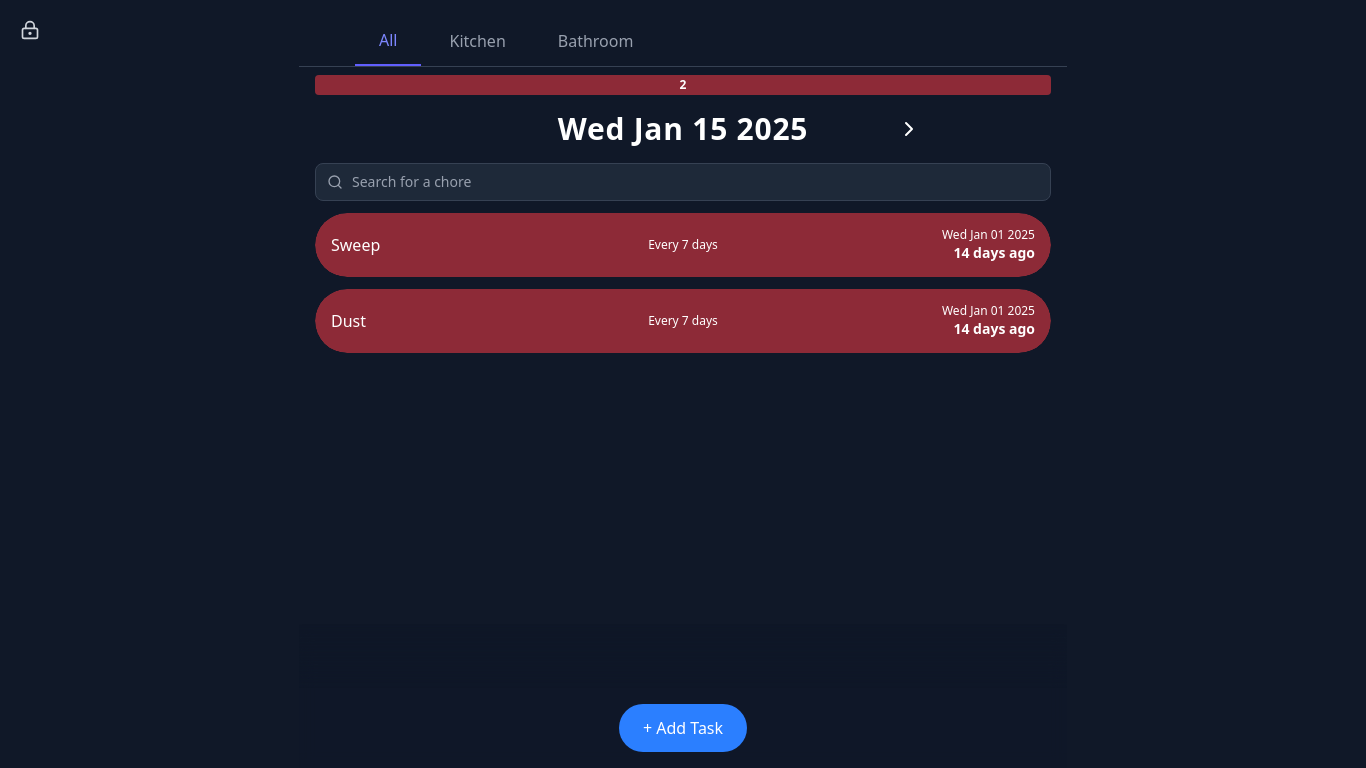
Test: touch lock wiring › a room tab, the search input and the next-day button work while an attempt overlay shows, and the overlay stays up
Check: the text "Sweep" is shown, box x1=331 y1=234 x2=380 y2=256
Click the element with test id "chore-bar" at (683, 245), box x1=315 y1=213 x2=1051 y2=277
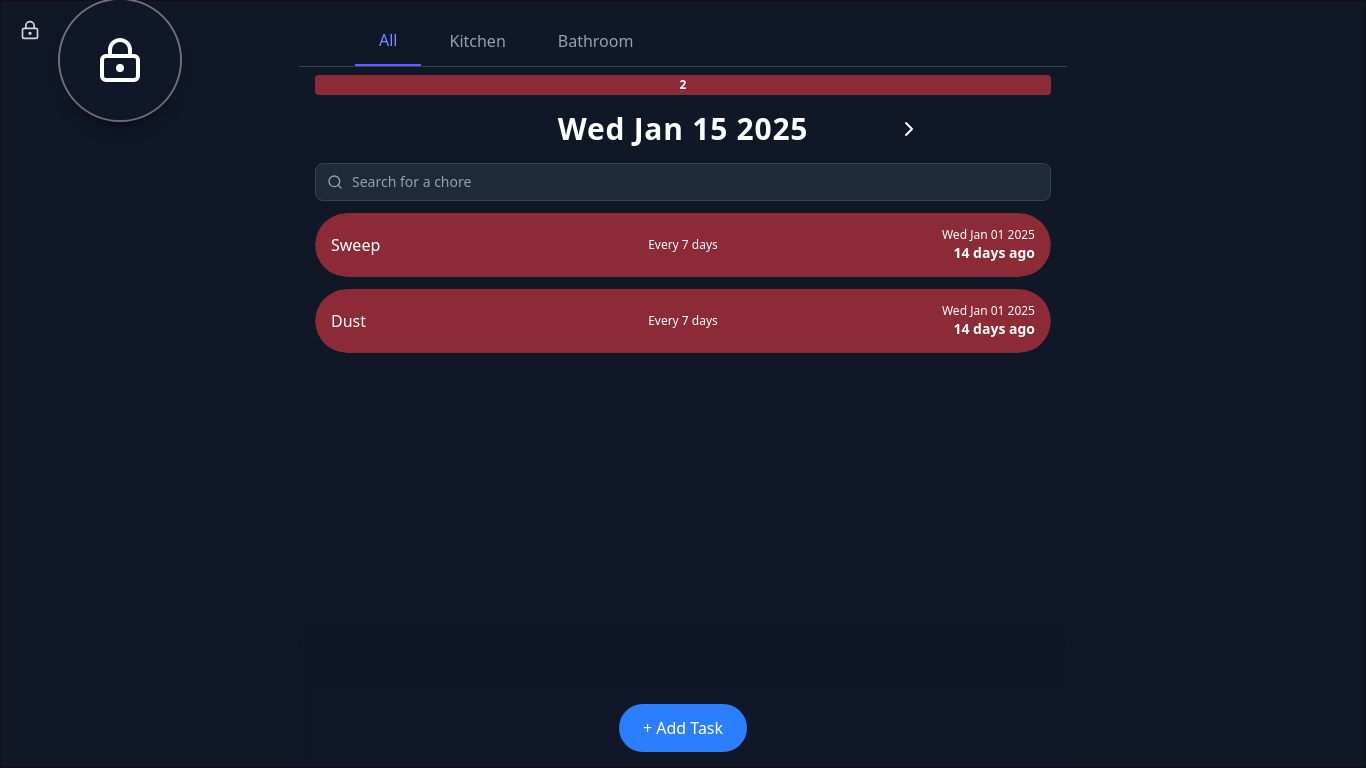
Click the button "Kitchen" at (478, 41), box x1=426 y1=16 x2=530 y2=66
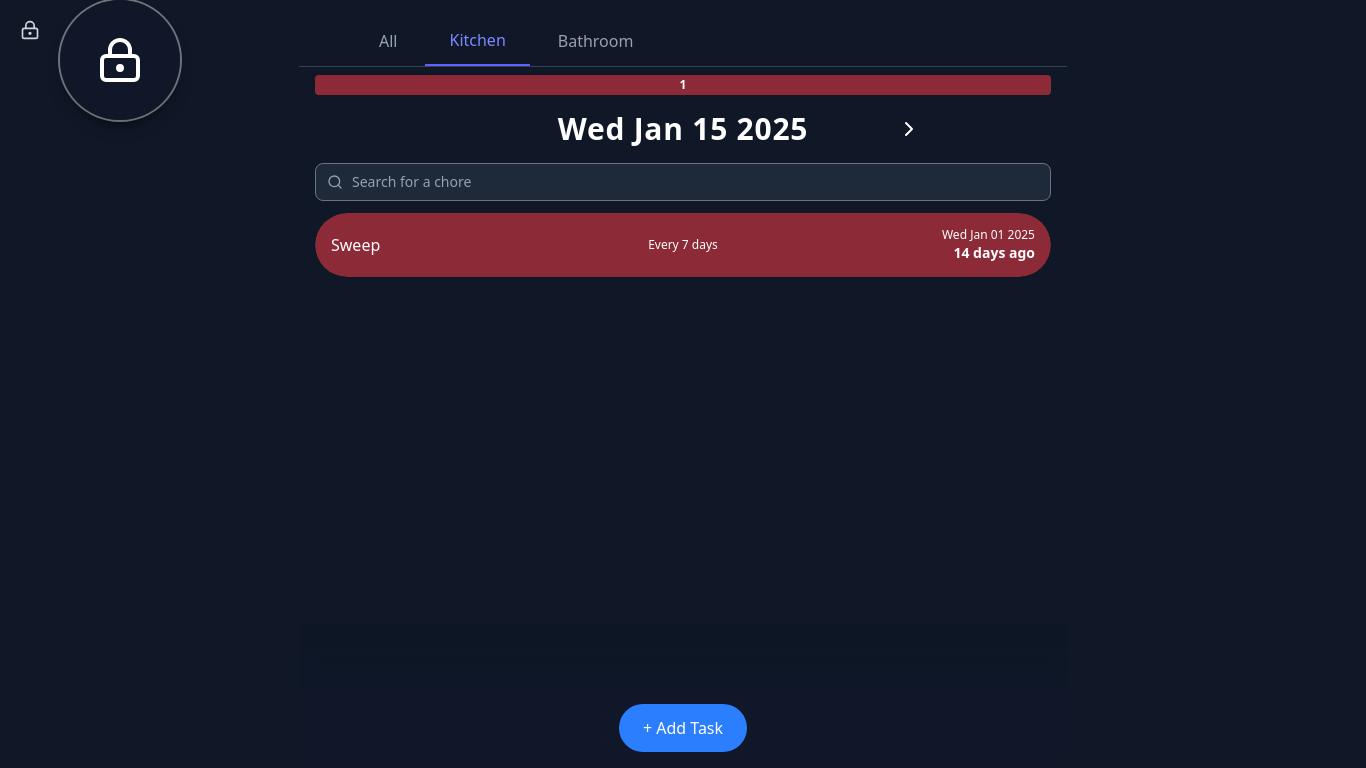
Check: the text "Dust" is gone
Type "sw" into the field with placeholder "Search for a chore" at (683, 182), box x1=315 y1=163 x2=1051 y2=201
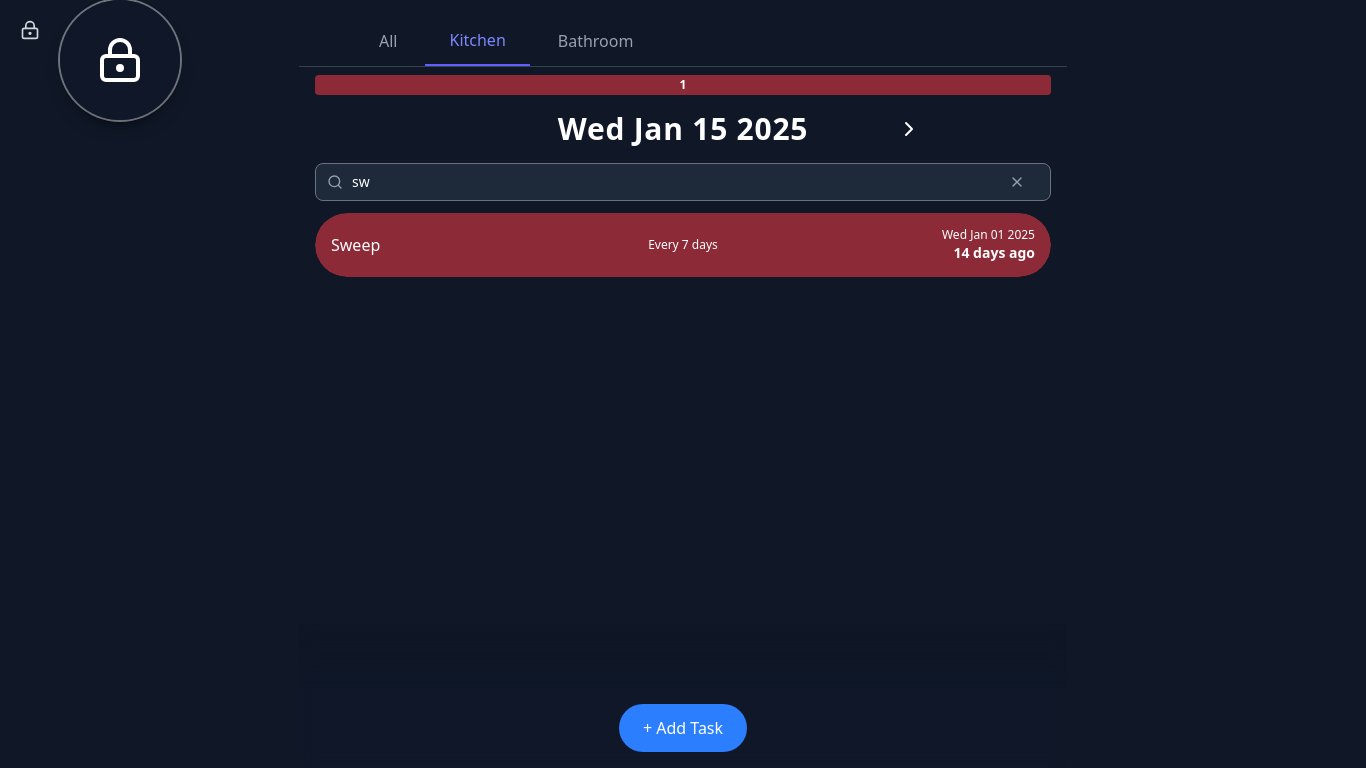
Check: the text "Sweep" is shown, box x1=331 y1=234 x2=380 y2=256
Click the button named "Next day" at (909, 129), box x1=887 y1=107 x2=931 y2=151
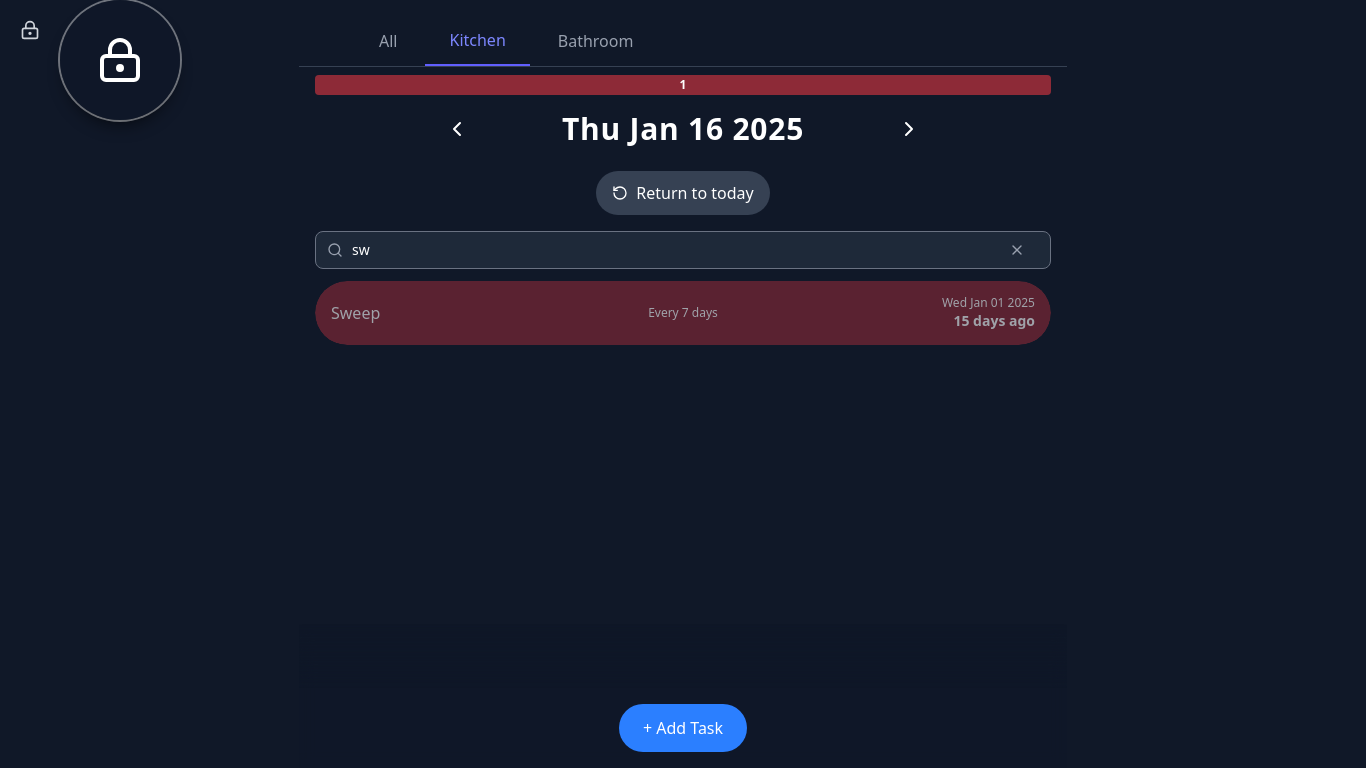
Check: the button "Return to today" is shown, box x1=596 y1=171 x2=770 y2=215
